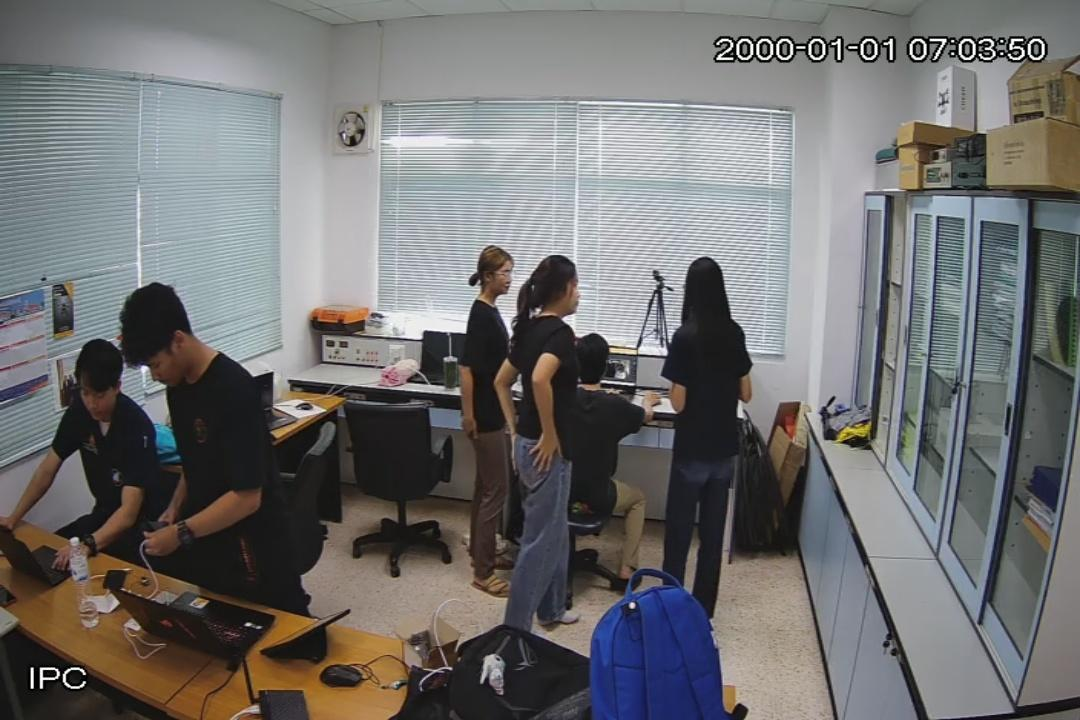normal: (125, 285, 305, 612), (663, 259, 749, 646), (7, 341, 137, 580), (518, 250, 585, 629), (567, 333, 656, 586), (458, 248, 514, 595)
